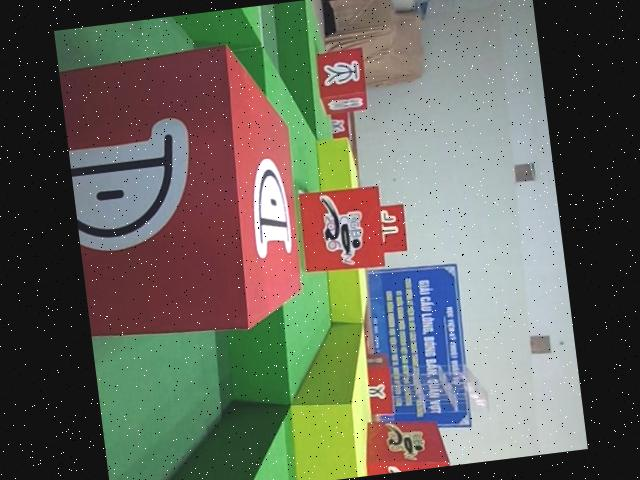R1: (294, 182, 391, 278), (356, 411, 452, 477)
R2 Fake: (312, 45, 372, 118)
R2 Real: (57, 37, 316, 351)
